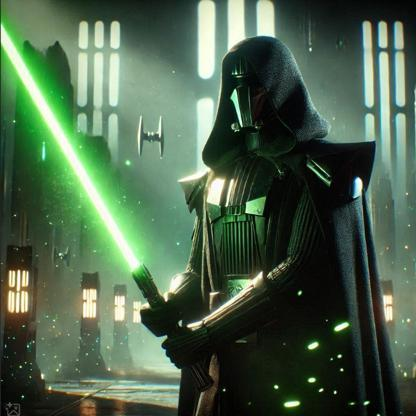lightsaber: (0, 24, 213, 396)
